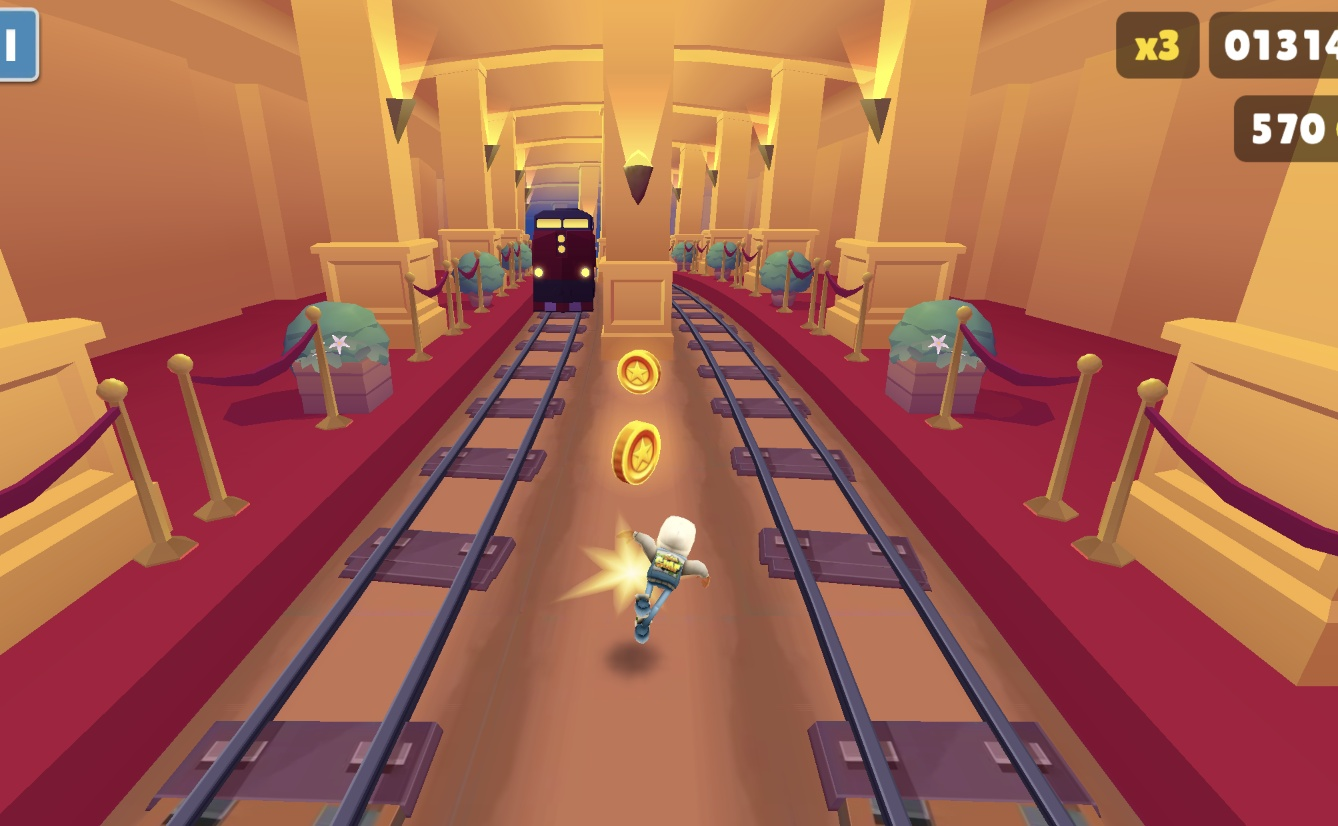pillar: (592, 0, 674, 357)
train: (529, 202, 599, 317)
